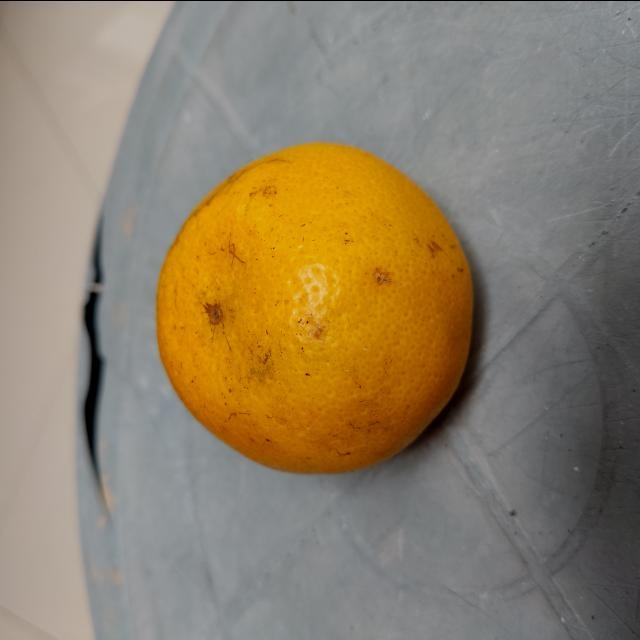agrume: (151, 138, 477, 479)
